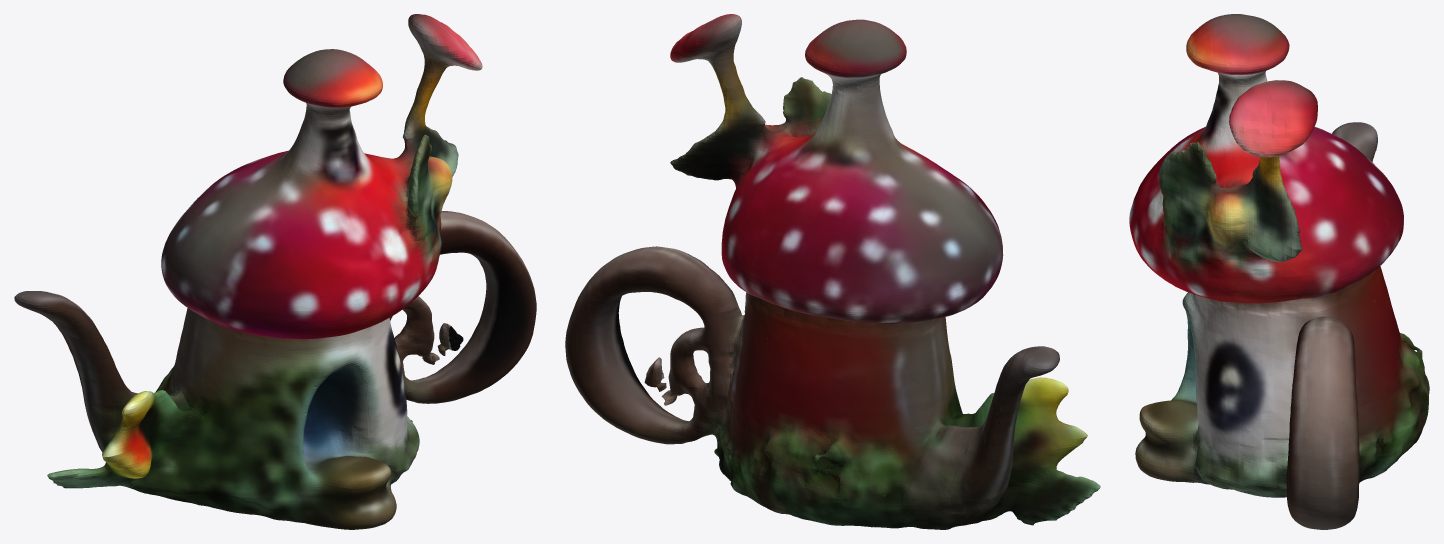
Rendered from mushroom.glb.
3 views of the same model, side by side, from view 1: azimuth 30°, elevation 25°; view 2: azimuth 150°, elevation 25°; view 3: azimuth 270°, elevation 25° (orthographic). The views are drawn at different scales.
Size of the model in its own units: 1.82 by 1.54 by 0.9258.
Materials: 1 (1 with a texture image).
